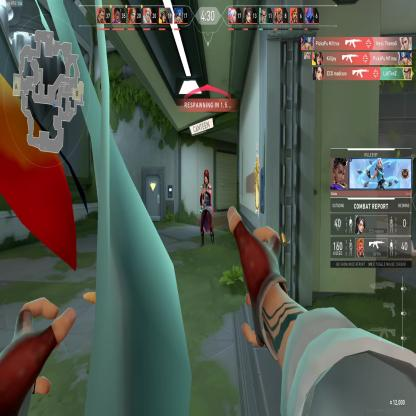enemy: (198, 168, 214, 248)
